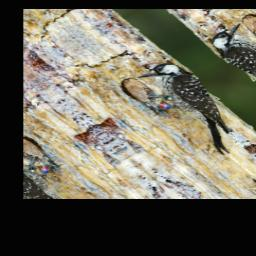Woodpecker: (121, 57, 256, 161)
